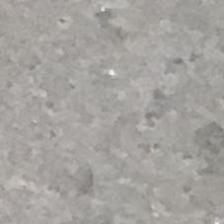Non_Crack: (16, 32, 224, 199)
